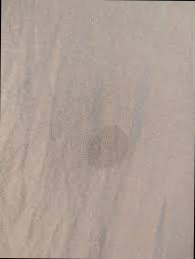oil: (79, 123, 130, 172)
